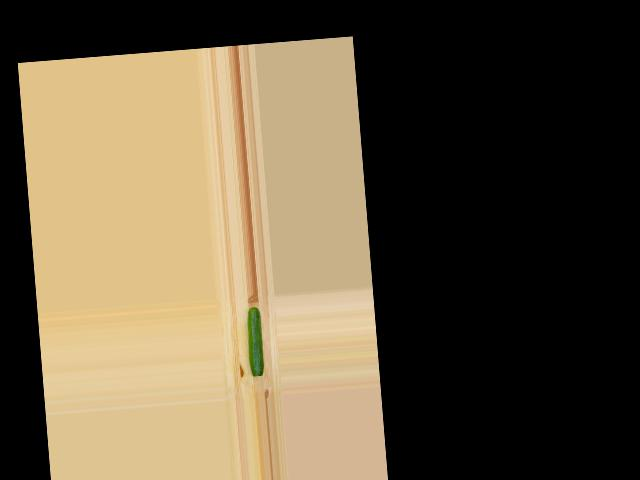cucumber: (245, 306, 264, 376)
